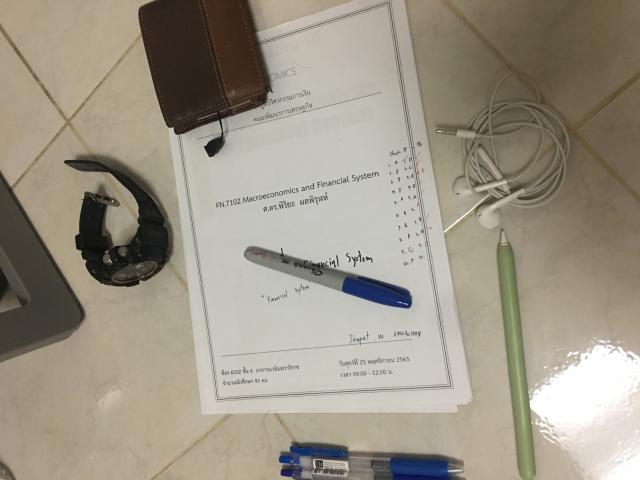Pen: (244, 246, 411, 309), (279, 446, 464, 480)
Wallet: (139, 0, 268, 134)
Watch: (65, 160, 169, 286)
paper: (156, 1, 471, 414)
wire: (436, 71, 570, 229)
